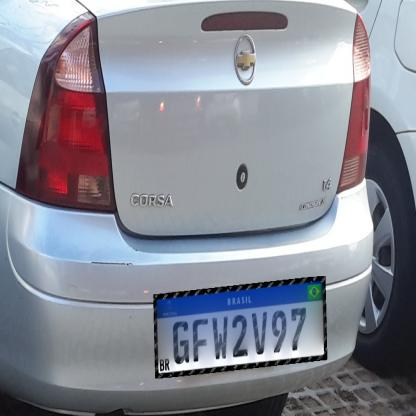PlacaM: (154, 276, 328, 379)
